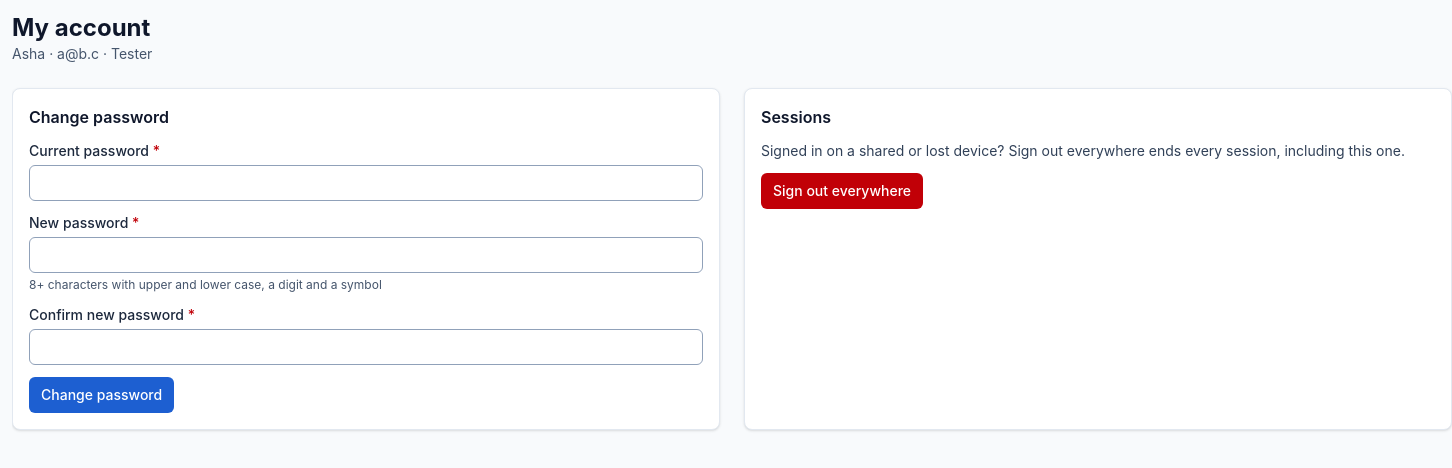
it: My account › flags mismatched passwords accessibly and does not submit
Type "N3w-Passw0rd!" into the password field labelled "New password *".
click(366, 255); type("N3w-Passw0rd!")  # box left=29, top=237, right=703, bottom=273
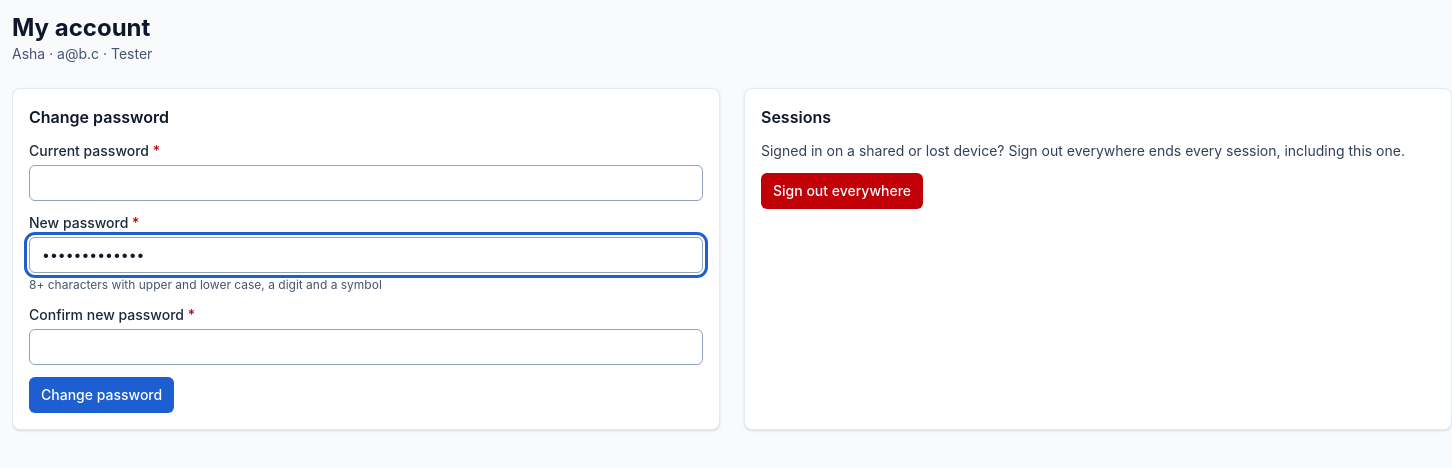
Type "different" into the password field labelled "Confirm new password *".
click(366, 347); type("different")  # box left=29, top=329, right=703, bottom=365
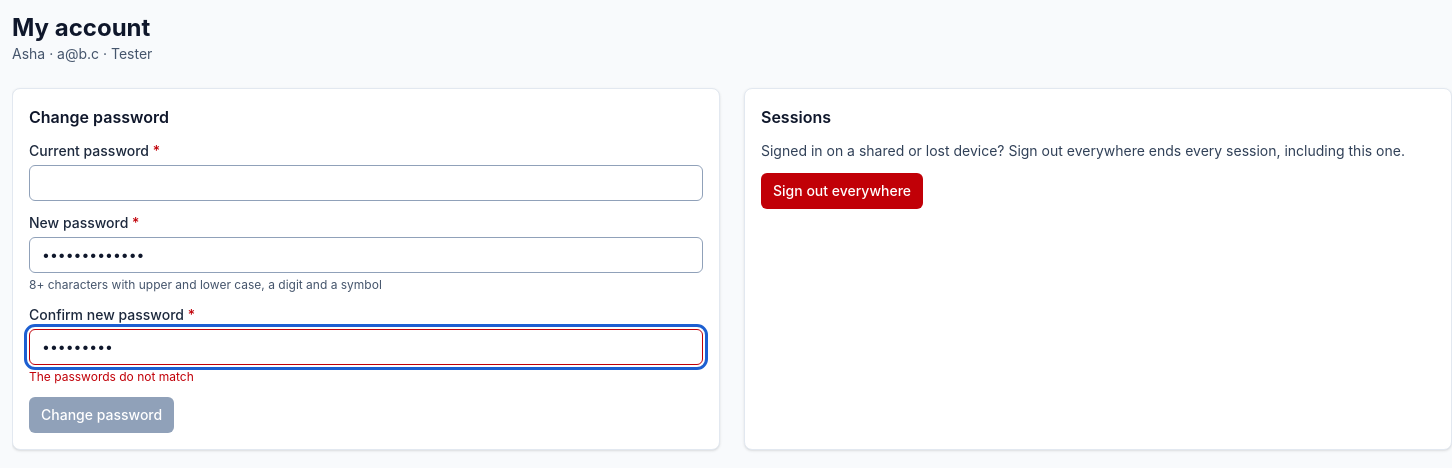
Result: the button "Change password" is disabled at left=29, top=397, right=174, bottom=433
